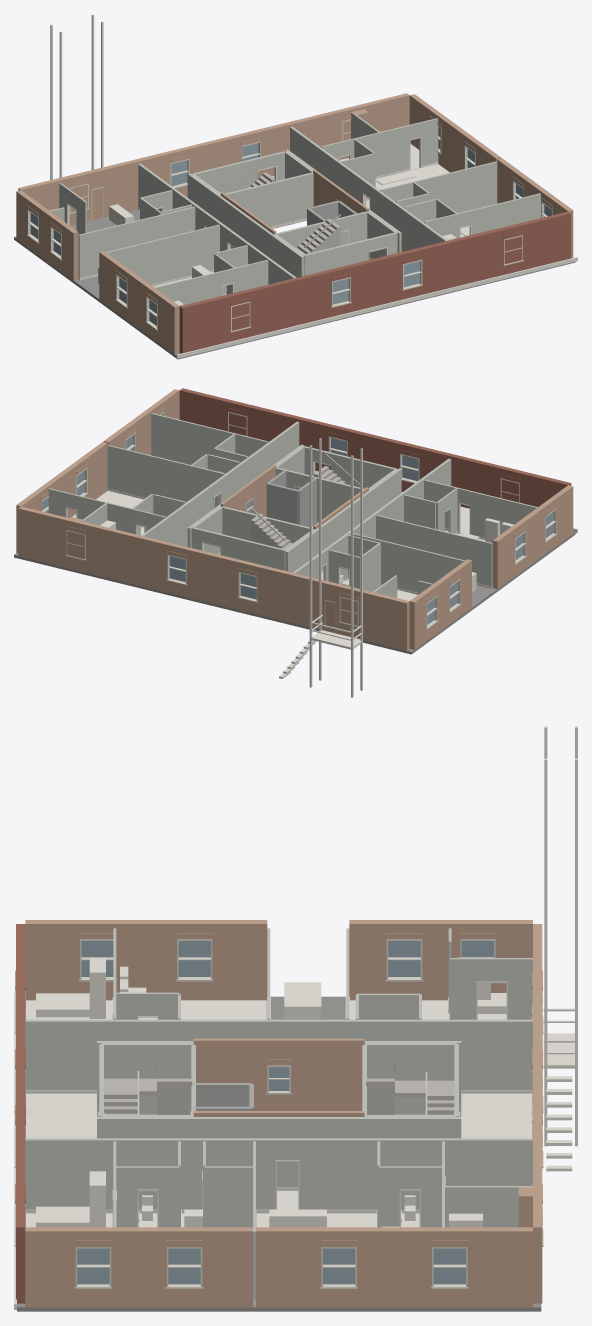
File: floor_02.glb
3 renders of one model, top to bottom at view 1: azimuth 30°, elevation 25°; view 2: azimuth 150°, elevation 25°; view 3: azimuth 270°, elevation 25°, orthographic. The views are drawn at different scales.
Visible parts, largest first — view 1: F02_walls-col, F02_walls_cbrick-col, F02_walls_fbrick-col, F02_furniture-col, F02_stone_trim-col, F02_glazing-col, F02_slabs-col, F02_stairs, F02_trim, F02_walls_conc-col; view 2: F02_walls-col, F02_walls_cbrick-col, F02_walls_fbrick-col, F02_furniture-col, F02_stone_trim-col, F02_glazing-col, F02_walls_conc-col, F02_slabs-col, F02_stairs, F02_trim; view 3: F02_walls-col, F02_walls_cbrick-col, F02_furniture-col, F02_glazing-col, F02_stairs, F02_stone_trim-col, F02_slabs-col, F02_walls_fbrick-col, F02_trim, F02_walls_conc-col.
Boxes of the visible parts, x1,y1,x2,y2 form: F02_walls-col: (49, 112, 540, 304); F02_walls_cbrick-col: (16, 93, 573, 354); F02_walls_fbrick-col: (179, 211, 571, 353); F02_furniture-col: (50, 14, 577, 358); F02_stone_trim-col: (27, 119, 552, 332); F02_glazing-col: (30, 127, 551, 325); F02_slabs-col: (14, 167, 575, 359); F02_stairs: (217, 159, 340, 254); F02_trim: (67, 137, 471, 295); F02_walls_conc-col: (307, 200, 357, 225); F02_walls-col: (48, 413, 537, 597); F02_walls_cbrick-col: (16, 389, 573, 650); F02_walls_fbrick-col: (179, 388, 571, 508); F02_furniture-col: (72, 438, 577, 697); F02_stone_trim-col: (41, 412, 557, 633); F02_glazing-col: (42, 436, 553, 624); F02_walls_conc-col: (266, 470, 316, 527); F02_slabs-col: (14, 496, 575, 654); F02_stairs: (250, 453, 367, 549); F02_trim: (65, 461, 492, 595); F02_walls-col: (25, 928, 532, 1300); F02_walls_cbrick-col: (25, 920, 542, 1307); F02_furniture-col: (14, 726, 577, 1309); F02_glazing-col: (77, 941, 493, 1284); F02_stairs: (104, 1061, 454, 1114); F02_stone_trim-col: (14, 939, 543, 1288); F02_slabs-col: (17, 996, 541, 1311); F02_walls_fbrick-col: (15, 924, 25, 1303); F02_trim: (26, 981, 532, 1303); F02_walls_conc-col: (193, 1083, 253, 1110).
Size of what is drawn, in the model's own units: 28.16 by 16.2 by 21.44.
